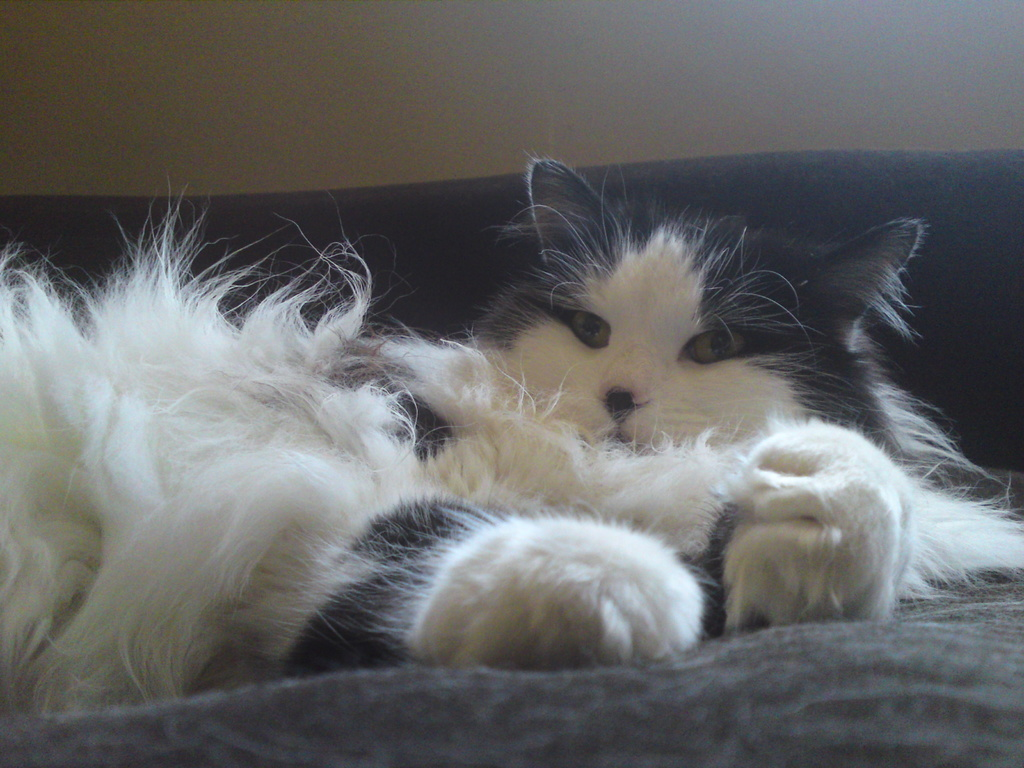cat: (373, 147, 932, 650)
